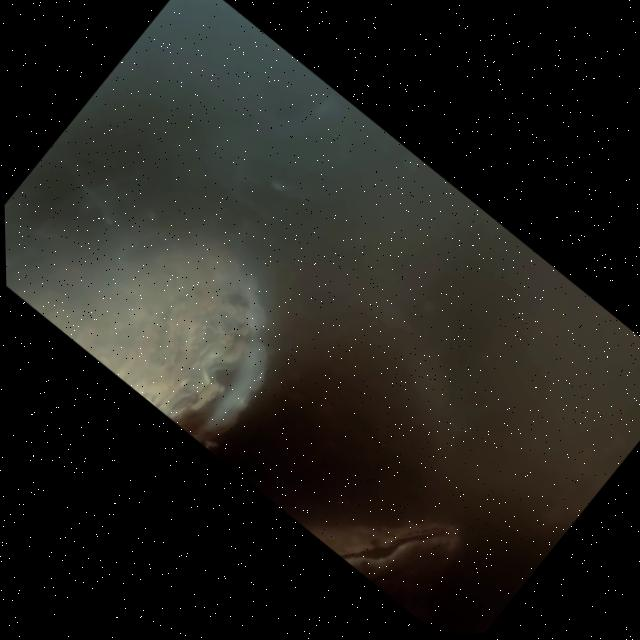Oyster-Open: (9, 228, 275, 450), (306, 519, 464, 580)
